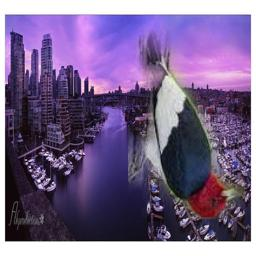Woodpecker: (128, 30, 245, 219)
